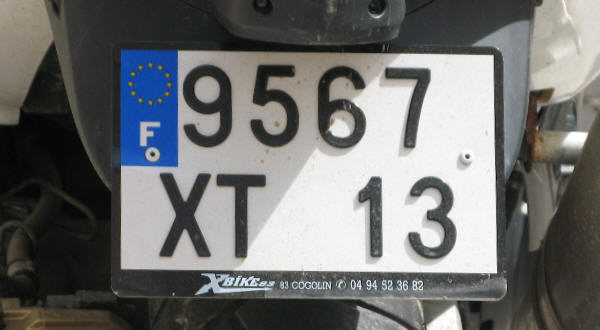license_plate: (111, 41, 506, 297)
